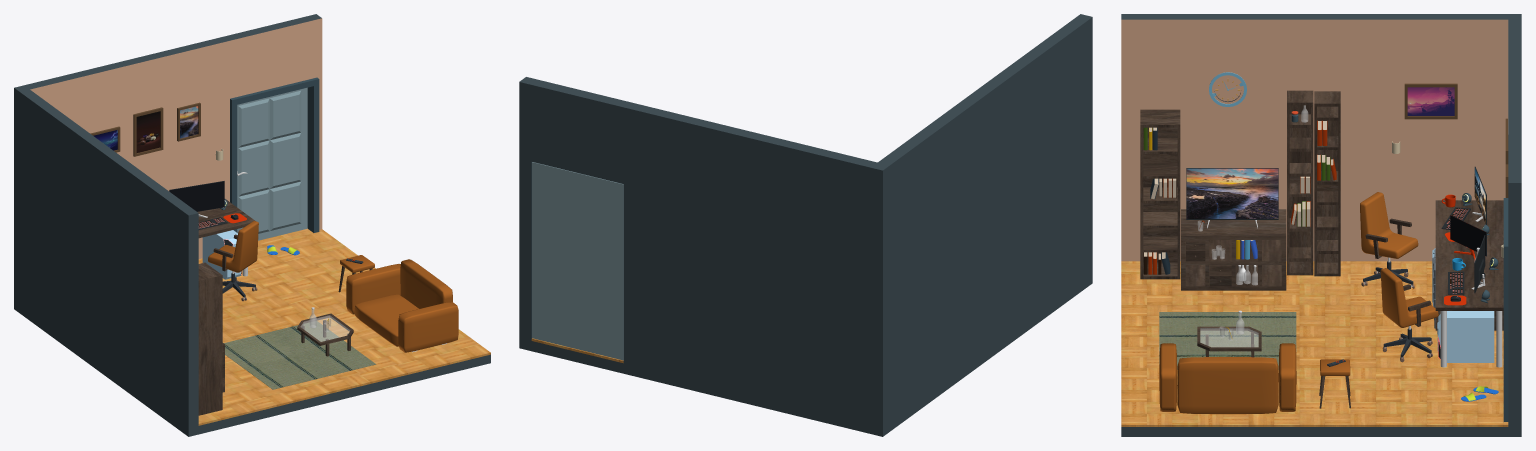
File: isometric-room.glb
3 views of the same model, side by side, from view 1: azimuth 30°, elevation 25°; view 2: azimuth 150°, elevation 25°; view 3: azimuth 270°, elevation 25° (orthographic). The views are drawn at different scales.
Parts seen in each view (by area): view 1: Plane_84, Plane.013_88, Plane.001_85, Cube.012_19, Plane.006_17, Plane.004_108, Plane.012_87, Cube_96, Plane.015_90, Cube.005_5, Plane.008_56, Cube.007_8 (+4 smaller); view 2: Plane_84, Plane.001_85; view 3: Plane_84, Plane.013_88, Cube.012_19, Plane.005_109, Plane.004_108, Plane.006_17, Plane.008_56, Cube.003_1, Plane.002_106, Plane.003_107, Cube.007_8, Cube.035_58 (+17 smaller).
Part boxes in pixels (left/top/right/bottom): Plane_84: left=14, top=14, right=490, bottom=436; Plane.013_88: left=198, top=228, right=490, bottom=425; Plane.001_85: left=237, top=87, right=307, bottom=240; Cube.012_19: left=346, top=259, right=458, bottom=352; Plane.006_17: left=224, top=321, right=376, bottom=389; Plane.004_108: left=198, top=262, right=222, bottom=415; Plane.012_87: left=230, top=77, right=319, bottom=232; Cube_96: left=208, top=221, right=258, bottom=272; Plane.015_90: left=133, top=107, right=163, bottom=156; Cube.005_5: left=169, top=181, right=224, bottom=211; Plane.008_56: left=197, top=199, right=255, bottom=238; Cube.007_8: left=202, top=230, right=241, bottom=279; Plane_84: left=519, top=14, right=1092, bottom=436; Plane.001_85: left=532, top=162, right=623, bottom=360; Plane_84: left=1121, top=14, right=1521, bottom=436; Plane.013_88: left=1121, top=261, right=1508, bottom=426; Cube.012_19: left=1159, top=343, right=1296, bottom=414; Plane.005_109: left=1181, top=209, right=1286, bottom=290; Plane.004_108: left=1140, top=109, right=1180, bottom=279; Plane.006_17: left=1159, top=312, right=1296, bottom=369; Plane.008_56: left=1433, top=200, right=1503, bottom=330; Cube.003_1: left=1186, top=168, right=1278, bottom=219; Plane.002_106: left=1314, top=91, right=1340, bottom=276; Plane.003_107: left=1287, top=90, right=1313, bottom=275; Cube.007_8: left=1437, top=311, right=1494, bottom=362; Cube.035_58: left=1360, top=192, right=1418, bottom=258.
Bounding box in the file's own units: 6 × 4.2 × 6.
Materials: 46 (9 with a texture image).
